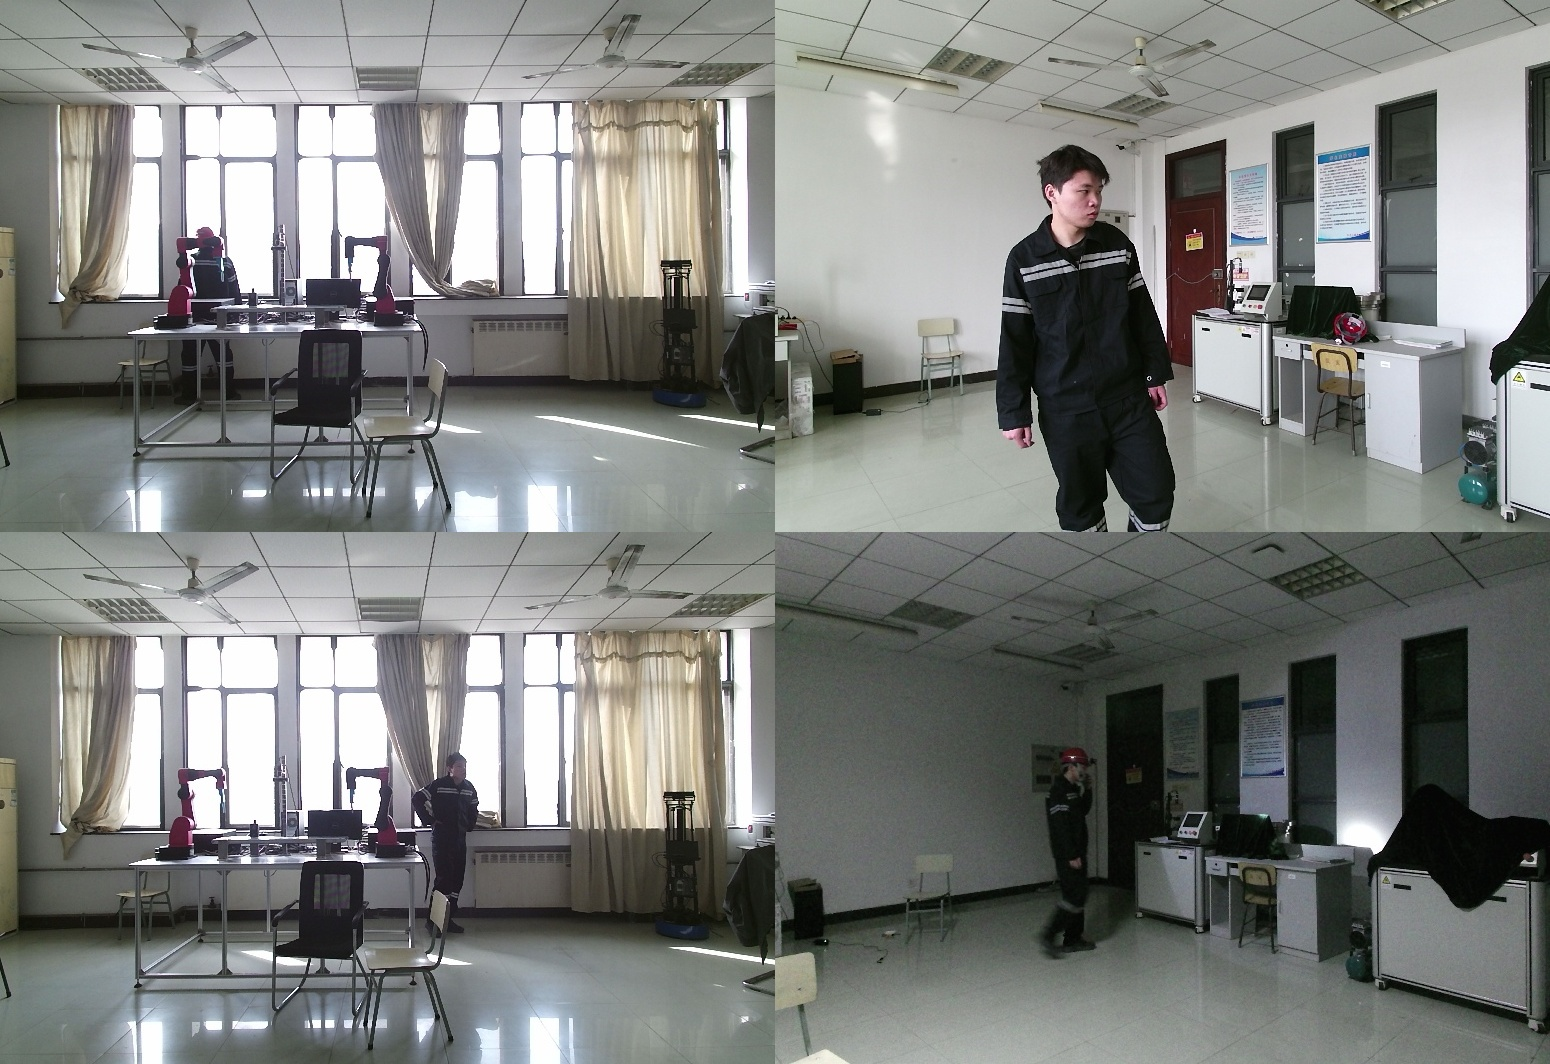person: (997, 143, 1189, 532), (1017, 748, 1099, 970), (413, 755, 479, 943), (177, 226, 240, 409)
